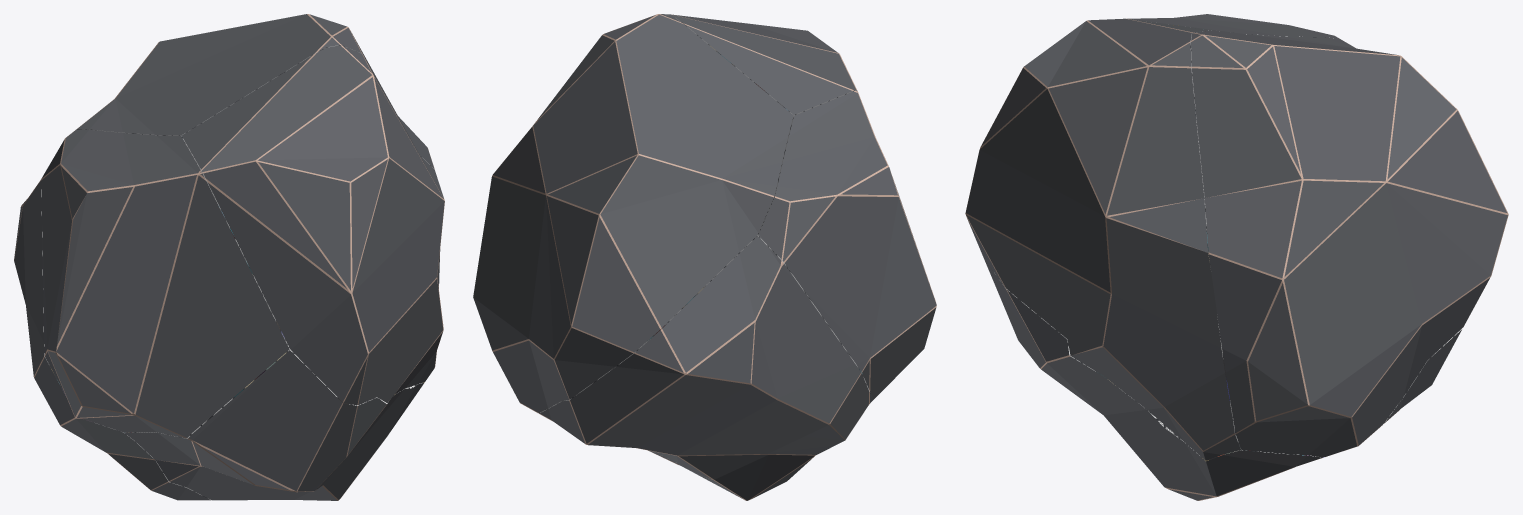
File: batuKecil5_FRAC.fbx
The picture shows the model from 3 angles, left to right: view 1: azimuth 30°, elevation 25°; view 2: azimuth 150°, elevation 25°; view 3: azimuth 270°, elevation 25°; orthographic projection. The views are drawn at different scales.
Parts seen in each view (by area): view 1: Cube.052_cell.003, Cube.052_cell.004, Cube.052_cell.002, Cube.052_cell.001, Cube.052_cell; view 2: Cube.052_cell.001, Cube.052_cell, Cube.052_cell.004, Cube.052_cell.003; view 3: Cube.052_cell.001, Cube.052_cell.003, Cube.052_cell.002, Cube.052_cell.004, Cube.052_cell.
Part boxes in pixels (x1,y1,x2,y2): Cube.052_cell.003: (181,45,444,405); Cube.052_cell.004: (41,129,289,438); Cube.052_cell.002: (124,336,424,500); Cube.052_cell.001: (77,14,440,261); Cube.052_cell: (14,178,211,500); Cube.052_cell.001: (473,14,793,413); Cube.052_cell: (539,236,872,500); Cube.052_cell.004: (757,90,936,399); Cube.052_cell.003: (662,14,856,116); Cube.052_cell.001: (1191,30,1508,456); Cube.052_cell.003: (965,18,1240,460); Cube.052_cell.002: (984,260,1320,500); Cube.052_cell.004: (1124,14,1338,38); Cube.052_cell: (1319,328,1462,458).
Bounding box in the file's own units: 187 × 191 × 201.
